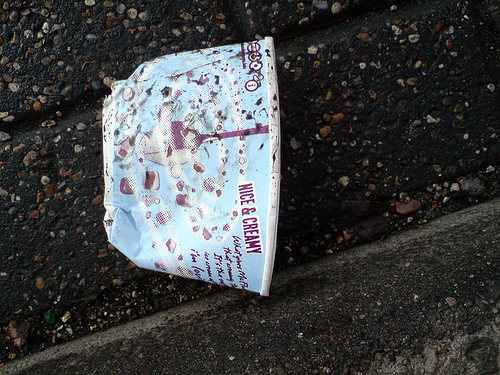litter: (104, 36, 280, 296)
